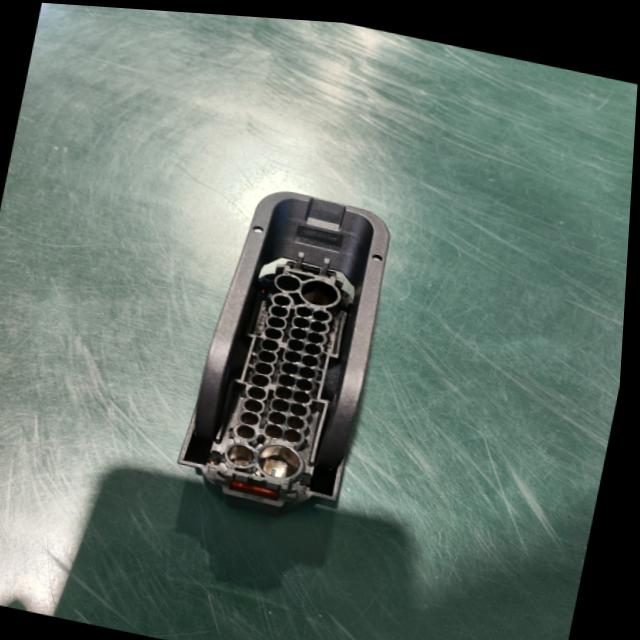P38: (184, 188, 392, 509)
